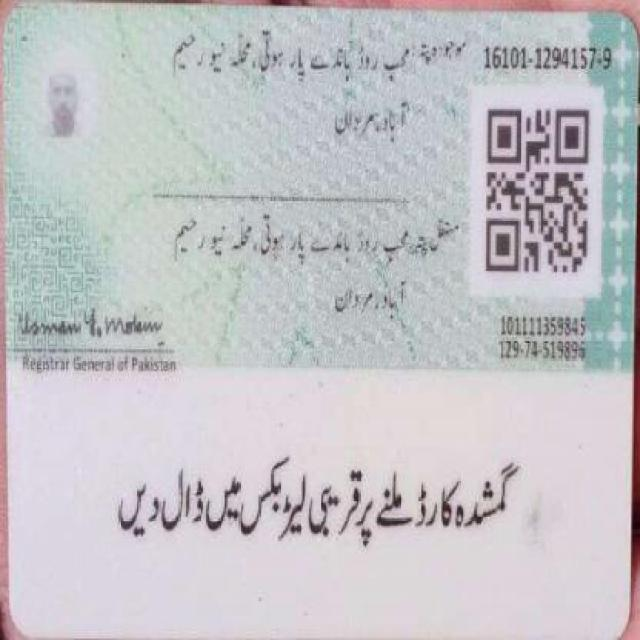Back: (6, 8, 632, 626)
